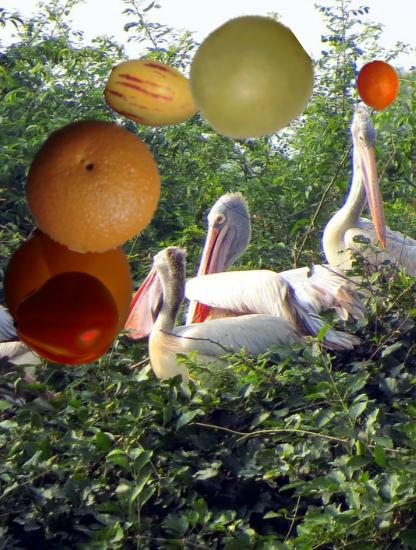Apricot: (1, 220, 142, 361)
Grape: (187, 16, 312, 141)
Orange: (24, 115, 163, 254)
Pepino: (106, 46, 205, 145)
Tangelo: (352, 61, 403, 112)
Tomato: (15, 265, 120, 370)
